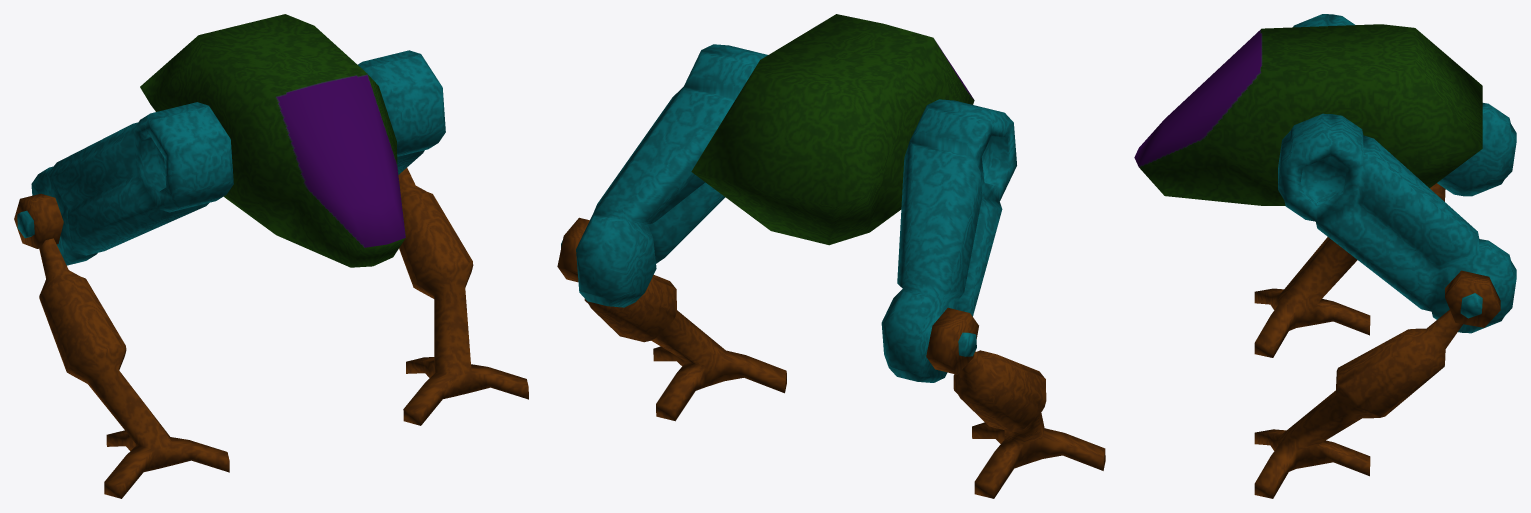
Rendered from Robot.fbx.
3 renders of one model, left to right at view 1: azimuth 30°, elevation 25°; view 2: azimuth 150°, elevation 25°; view 3: azimuth 270°, elevation 25°, orthographic. The views are drawn at different scales.
Parts seen in each view (by area): view 1: Korp, Lag, le, le.2, Lag.2; view 2: Korp, Lag, Lag.2, le, le.2; view 3: Korp, Lag.2, le.2, le, Lag.
Part boxes in pixels (x1=…): Korp: x1=140, y1=14, x2=405, y2=267; Lag: x1=17, y1=102, x2=233, y2=265; le: x1=14, y1=193, x2=229, y2=498; le.2: x1=398, y1=167, x2=528, y2=425; Lag.2: x1=358, y1=50, x2=445, y2=174; Korp: x1=691, y1=14, x2=974, y2=245; Lag: x1=881, y1=99, x2=1016, y2=382; Lag.2: x1=561, y1=44, x2=767, y2=307; le: x1=926, y1=307, x2=1105, y2=498; le.2: x1=557, y1=217, x2=786, y2=421; Korp: x1=1134, y1=24, x2=1482, y2=205; Lag.2: x1=1278, y1=113, x2=1516, y2=333; le.2: x1=1254, y1=270, x2=1500, y2=498; le: x1=1254, y1=183, x2=1445, y2=357; Lag: x1=1293, y1=14, x2=1516, y2=196.
Size of the model in its own units: 349 by 289 by 283.
